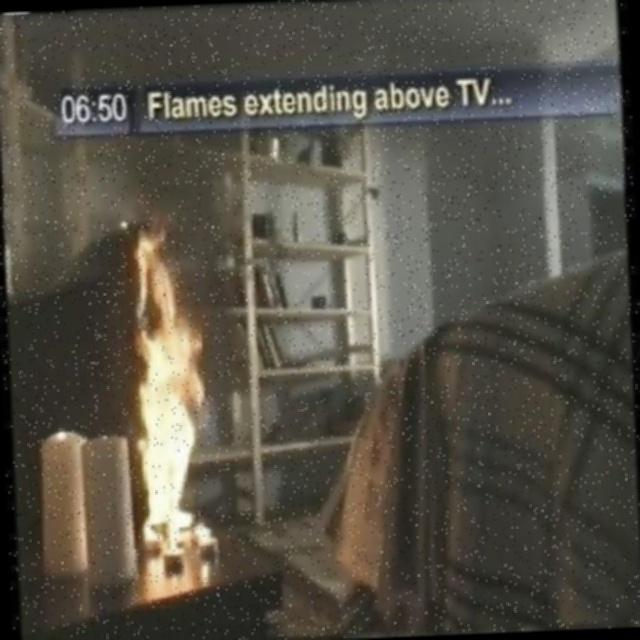fire: (108, 212, 230, 578)
